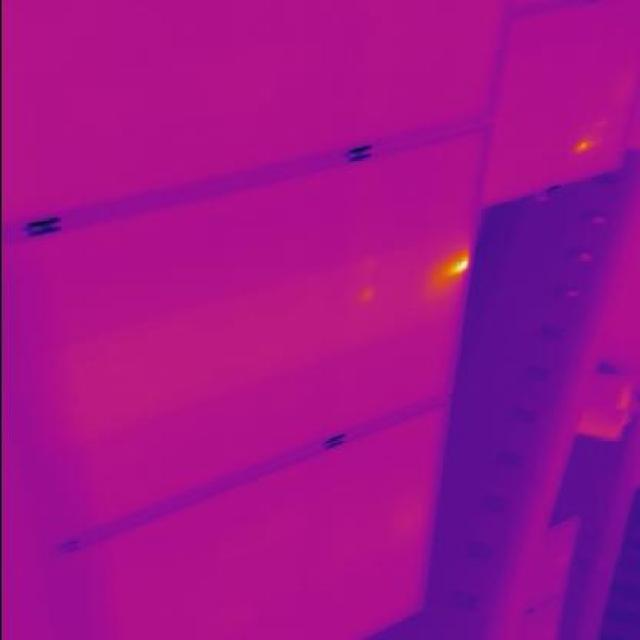hotspot: (432, 245, 471, 282)
